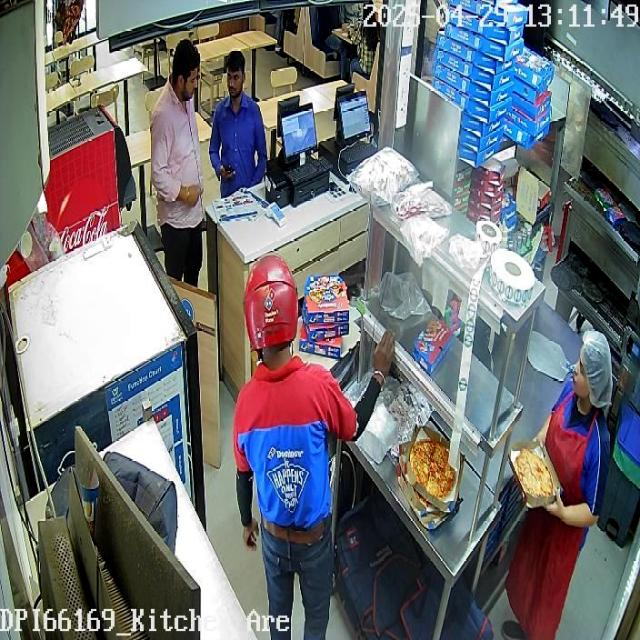helmet: (243, 252, 299, 367)
no_helmet: (173, 35, 202, 100), (225, 49, 246, 97)
